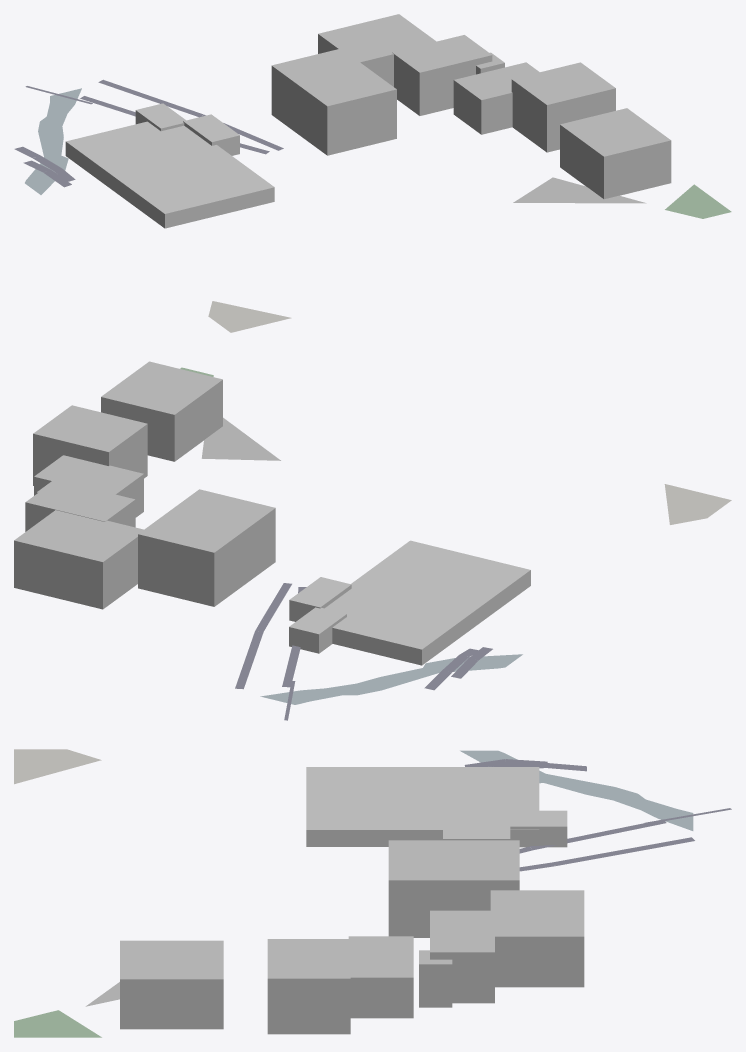
File: 103_109_mid.glb
3 views of the same model, one above another, from view 1: azimuth 30°, elevation 25°; view 2: azimuth 150°, elevation 25°; view 3: azimuth 270°, elevation 25° (orthographic). The views are drawn at different scales.
Bounding box in the file's own units: 500 × 47.32 × 529.
